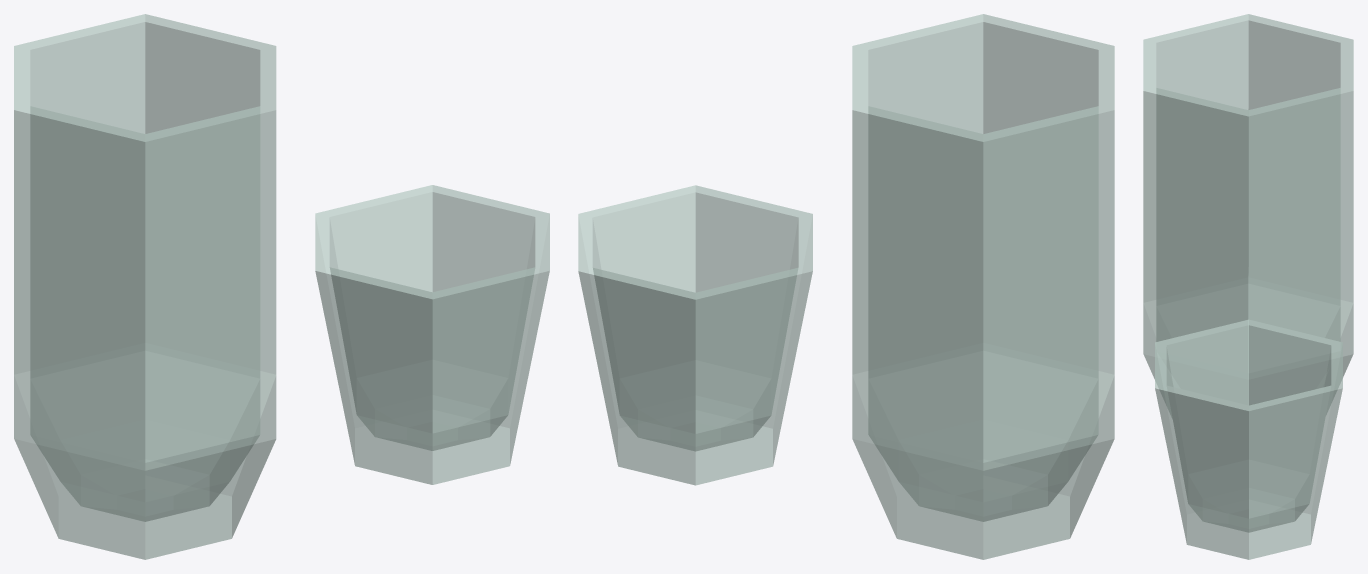
File: glass-cup.fbx
The picture shows the model from 3 angles, left to right: view 1: azimuth 30°, elevation 25°; view 2: azimuth 150°, elevation 25°; view 3: azimuth 270°, elevation 25°; orthographic projection. The views are drawn at different scales.
Visible parts, largest first — view 1: Cylinder.027, Cylinder.026; view 2: Cylinder.027, Cylinder.026; view 3: Cylinder.027, Cylinder.026.
Boxes of the visible parts, bbox=[...] form: Cylinder.027: bbox=[14, 14, 276, 559]; Cylinder.026: bbox=[315, 185, 549, 484]; Cylinder.027: bbox=[852, 14, 1114, 559]; Cylinder.026: bbox=[578, 185, 812, 485]; Cylinder.027: bbox=[1143, 14, 1353, 416]; Cylinder.026: bbox=[1155, 319, 1342, 559].
Bounding box in the file's own units: 29.67 × 23.25 × 12.58.
